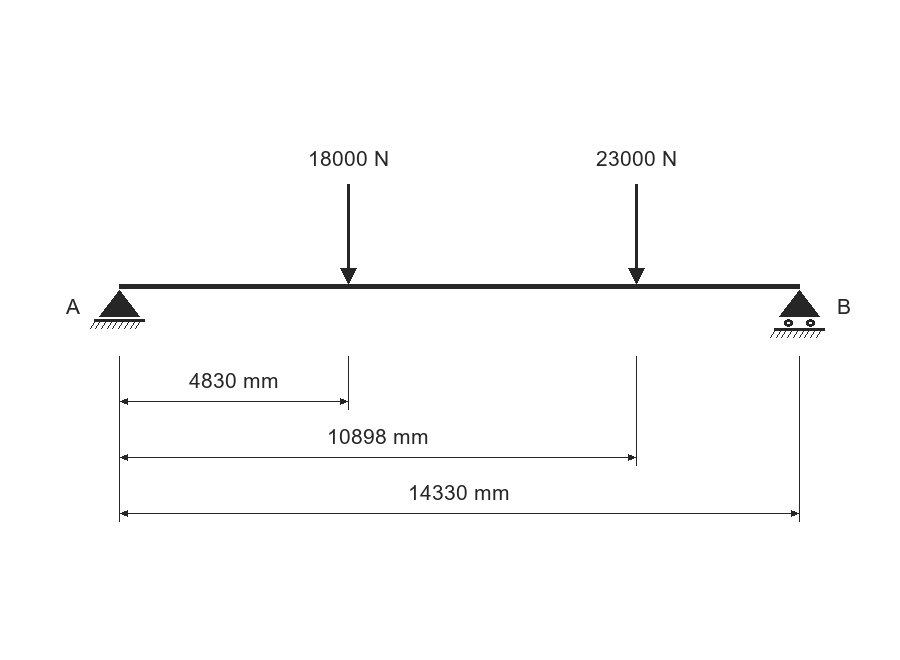pin_support: (90, 290, 145, 329)
point_load: (340, 184, 357, 284), (628, 184, 645, 284)
roller_support: (770, 290, 825, 338)
